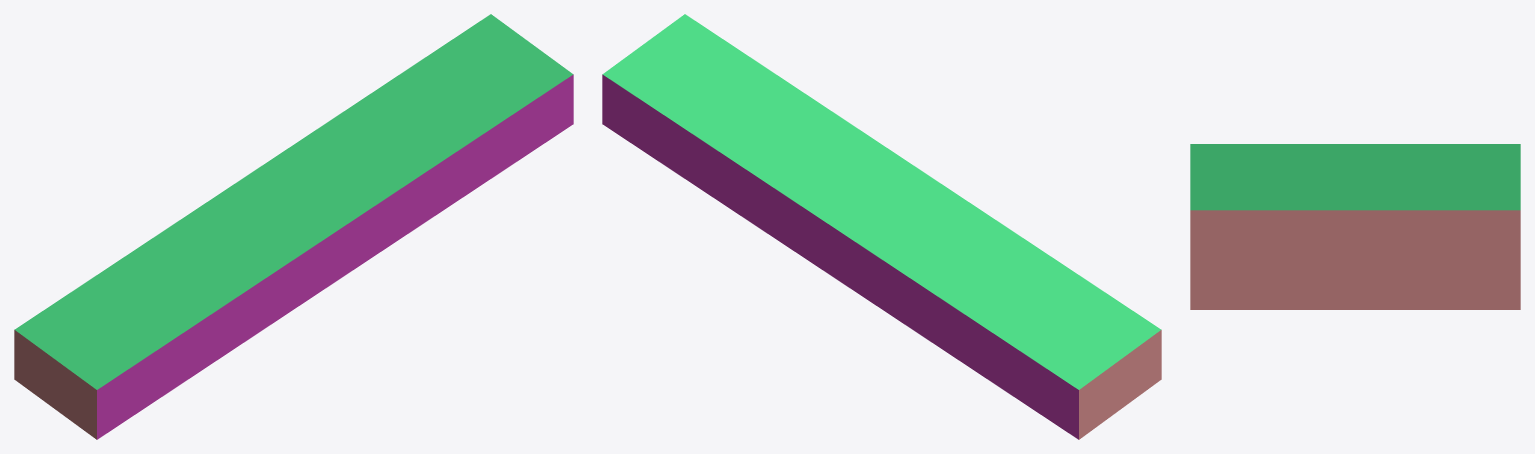
The model's file is floor r4.FBX.
3 renders of one model, left to right at view 1: azimuth 30°, elevation 25°; view 2: azimuth 150°, elevation 25°; view 3: azimuth 270°, elevation 25°, orthographic. The views are drawn at different scales.
Visible parts, largest first — view 1: floor r4; view 2: floor r4; view 3: floor r4.
Boxes of the visible parts, x1=… form: floor r4: x1=14, y1=14, x2=573, y2=439; floor r4: x1=602, y1=14, x2=1161, y2=439; floor r4: x1=1190, y1=144, x2=1520, y2=309.
Bounding box in the file's own units: 0.508 × 0.254 × 0.1524.
